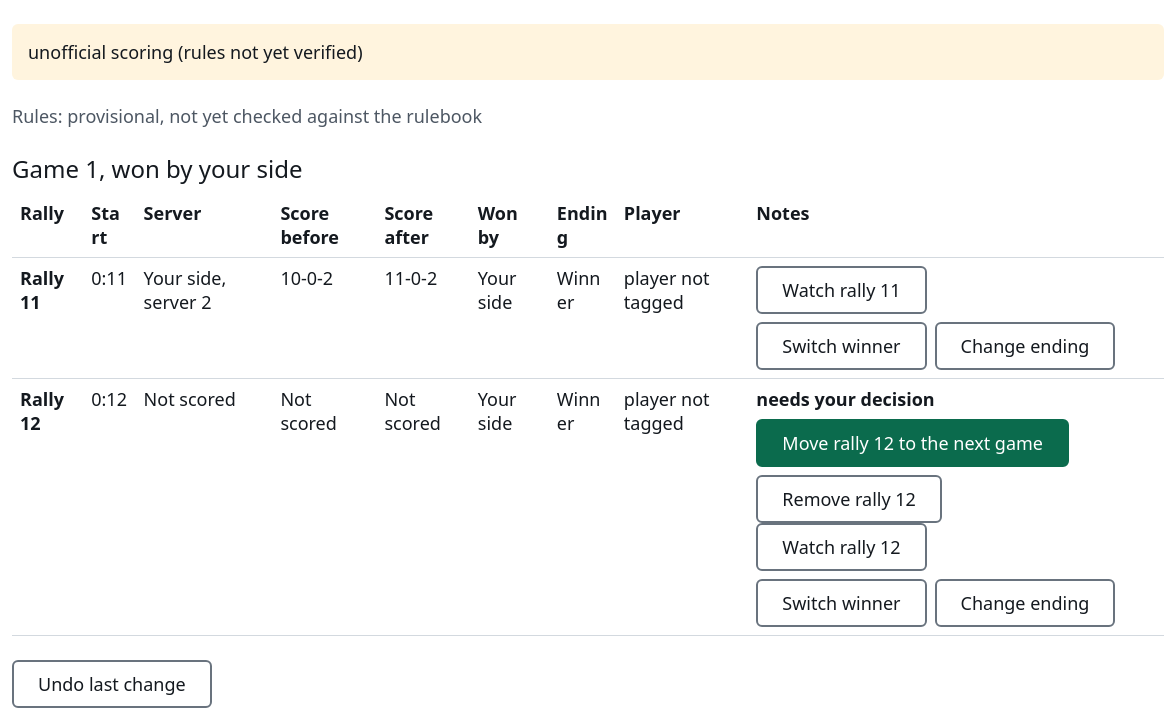
Test case: DR-02 E-3: focus after a decision › a refused decision keeps focus on the control used
The width and height of the screenshot is (1164, 720).
What coordinates should you click on to do the following:
click the button "Remove rally 12"
I would click on:
 (849, 499)
Its box is [756,475,942,523].
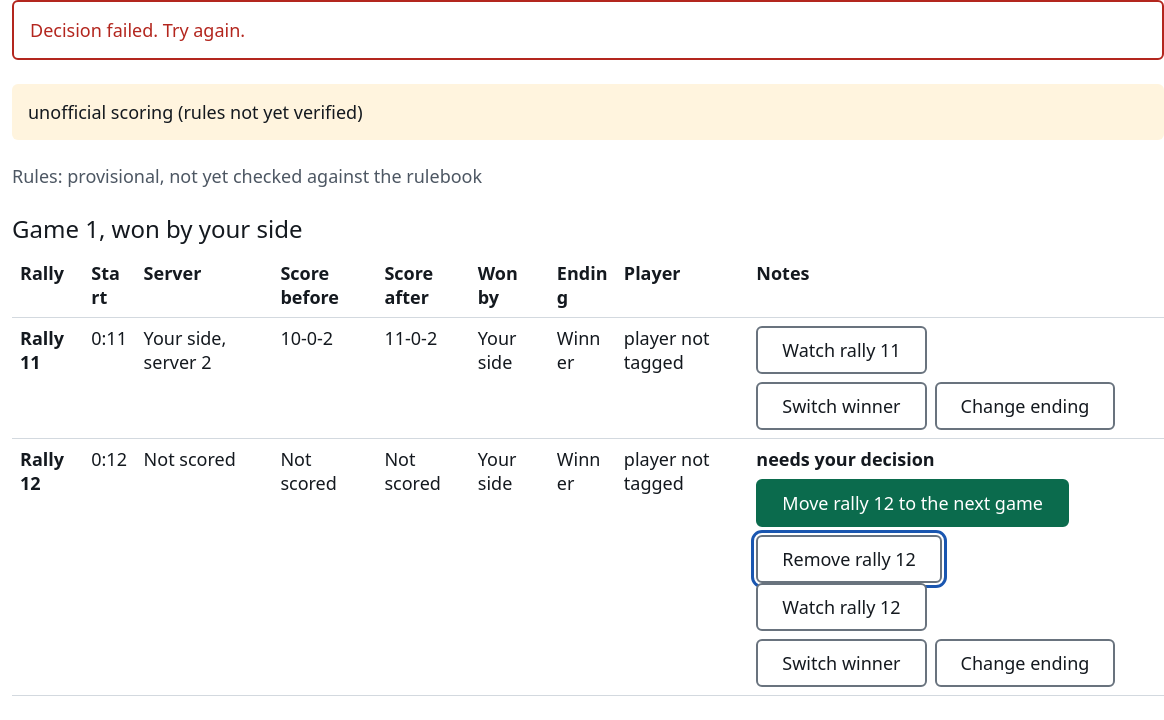
Check: the message "Decision failed. Try again." is shown, box [12,0,1163,60]
